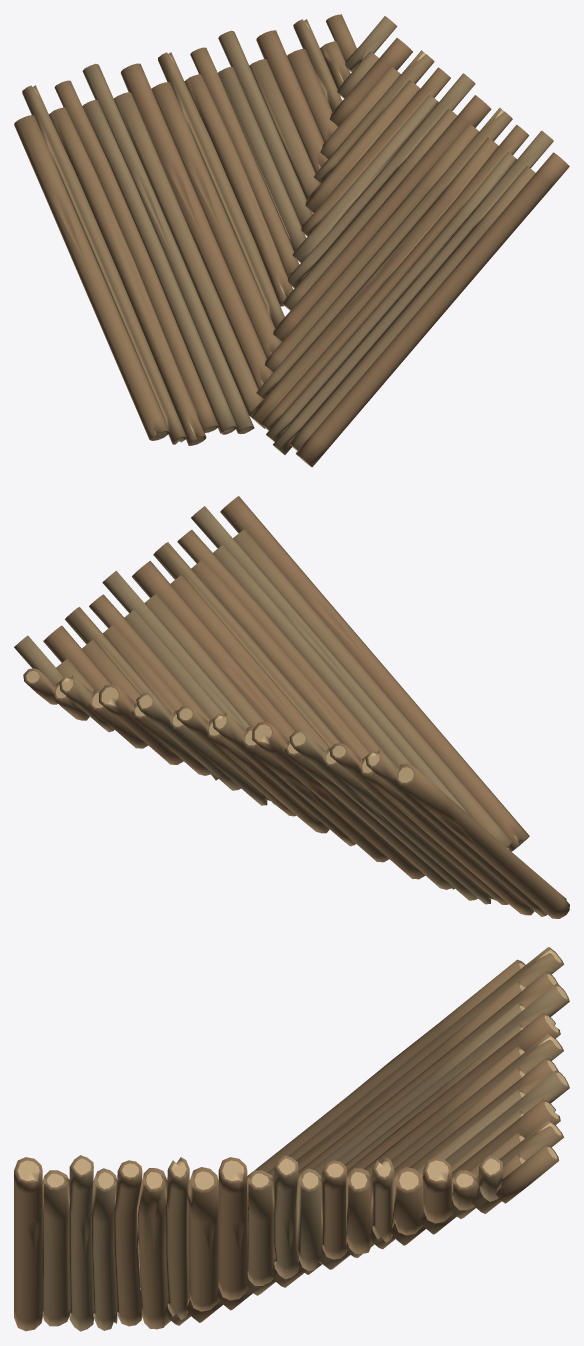
The model's file is rpgpp_ag_roof_01_9x4x3_corner_01.fbx.
3 views of the same model, one above another, from view 1: azimuth 30°, elevation 25°; view 2: azimuth 150°, elevation 25°; view 3: azimuth 270°, elevation 25° (orthographic). The views are drawn at different scales.
Parts seen in each view (by area): view 1: rpgpp_ag_roof_01_9x4x3_corner_01; view 2: rpgpp_ag_roof_01_9x4x3_corner_01; view 3: rpgpp_ag_roof_01_9x4x3_corner_01.
Part boxes in pixels (box(x1,y1,x2,y2)): rpgpp_ag_roof_01_9x4x3_corner_01: box(14, 14, 569, 467); rpgpp_ag_roof_01_9x4x3_corner_01: box(14, 496, 569, 918); rpgpp_ag_roof_01_9x4x3_corner_01: box(14, 947, 569, 1331).
Size of the model in its own units: 8.16 by 5.52 by 8.15.
